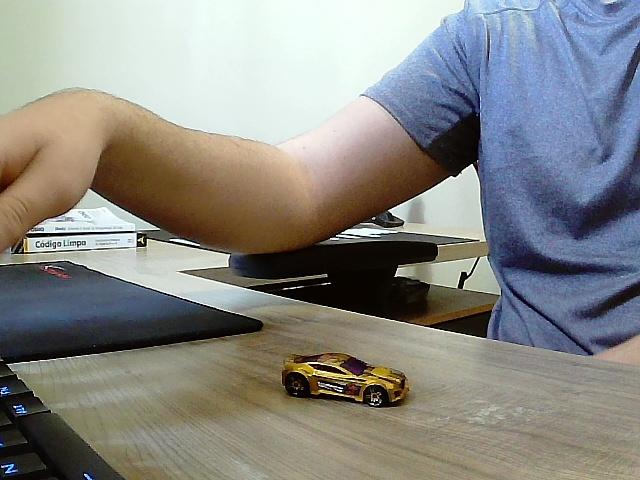Carro: (282, 355, 410, 409)
